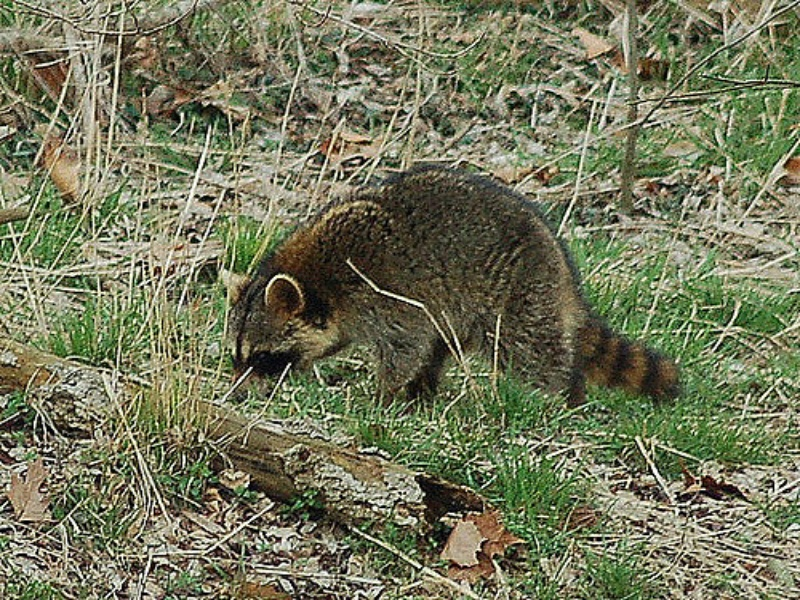raccoon: (214, 166, 683, 421)
